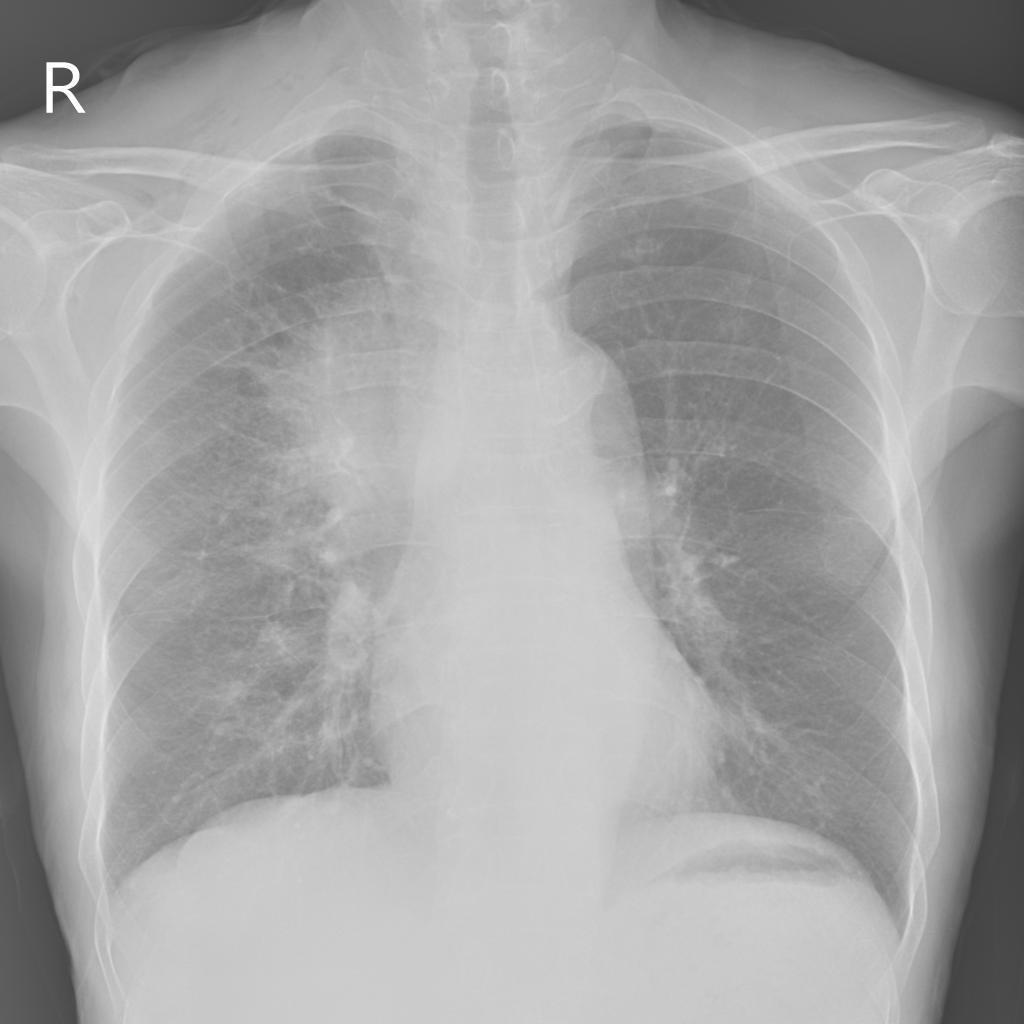Nodule: (273, 306, 417, 563)
